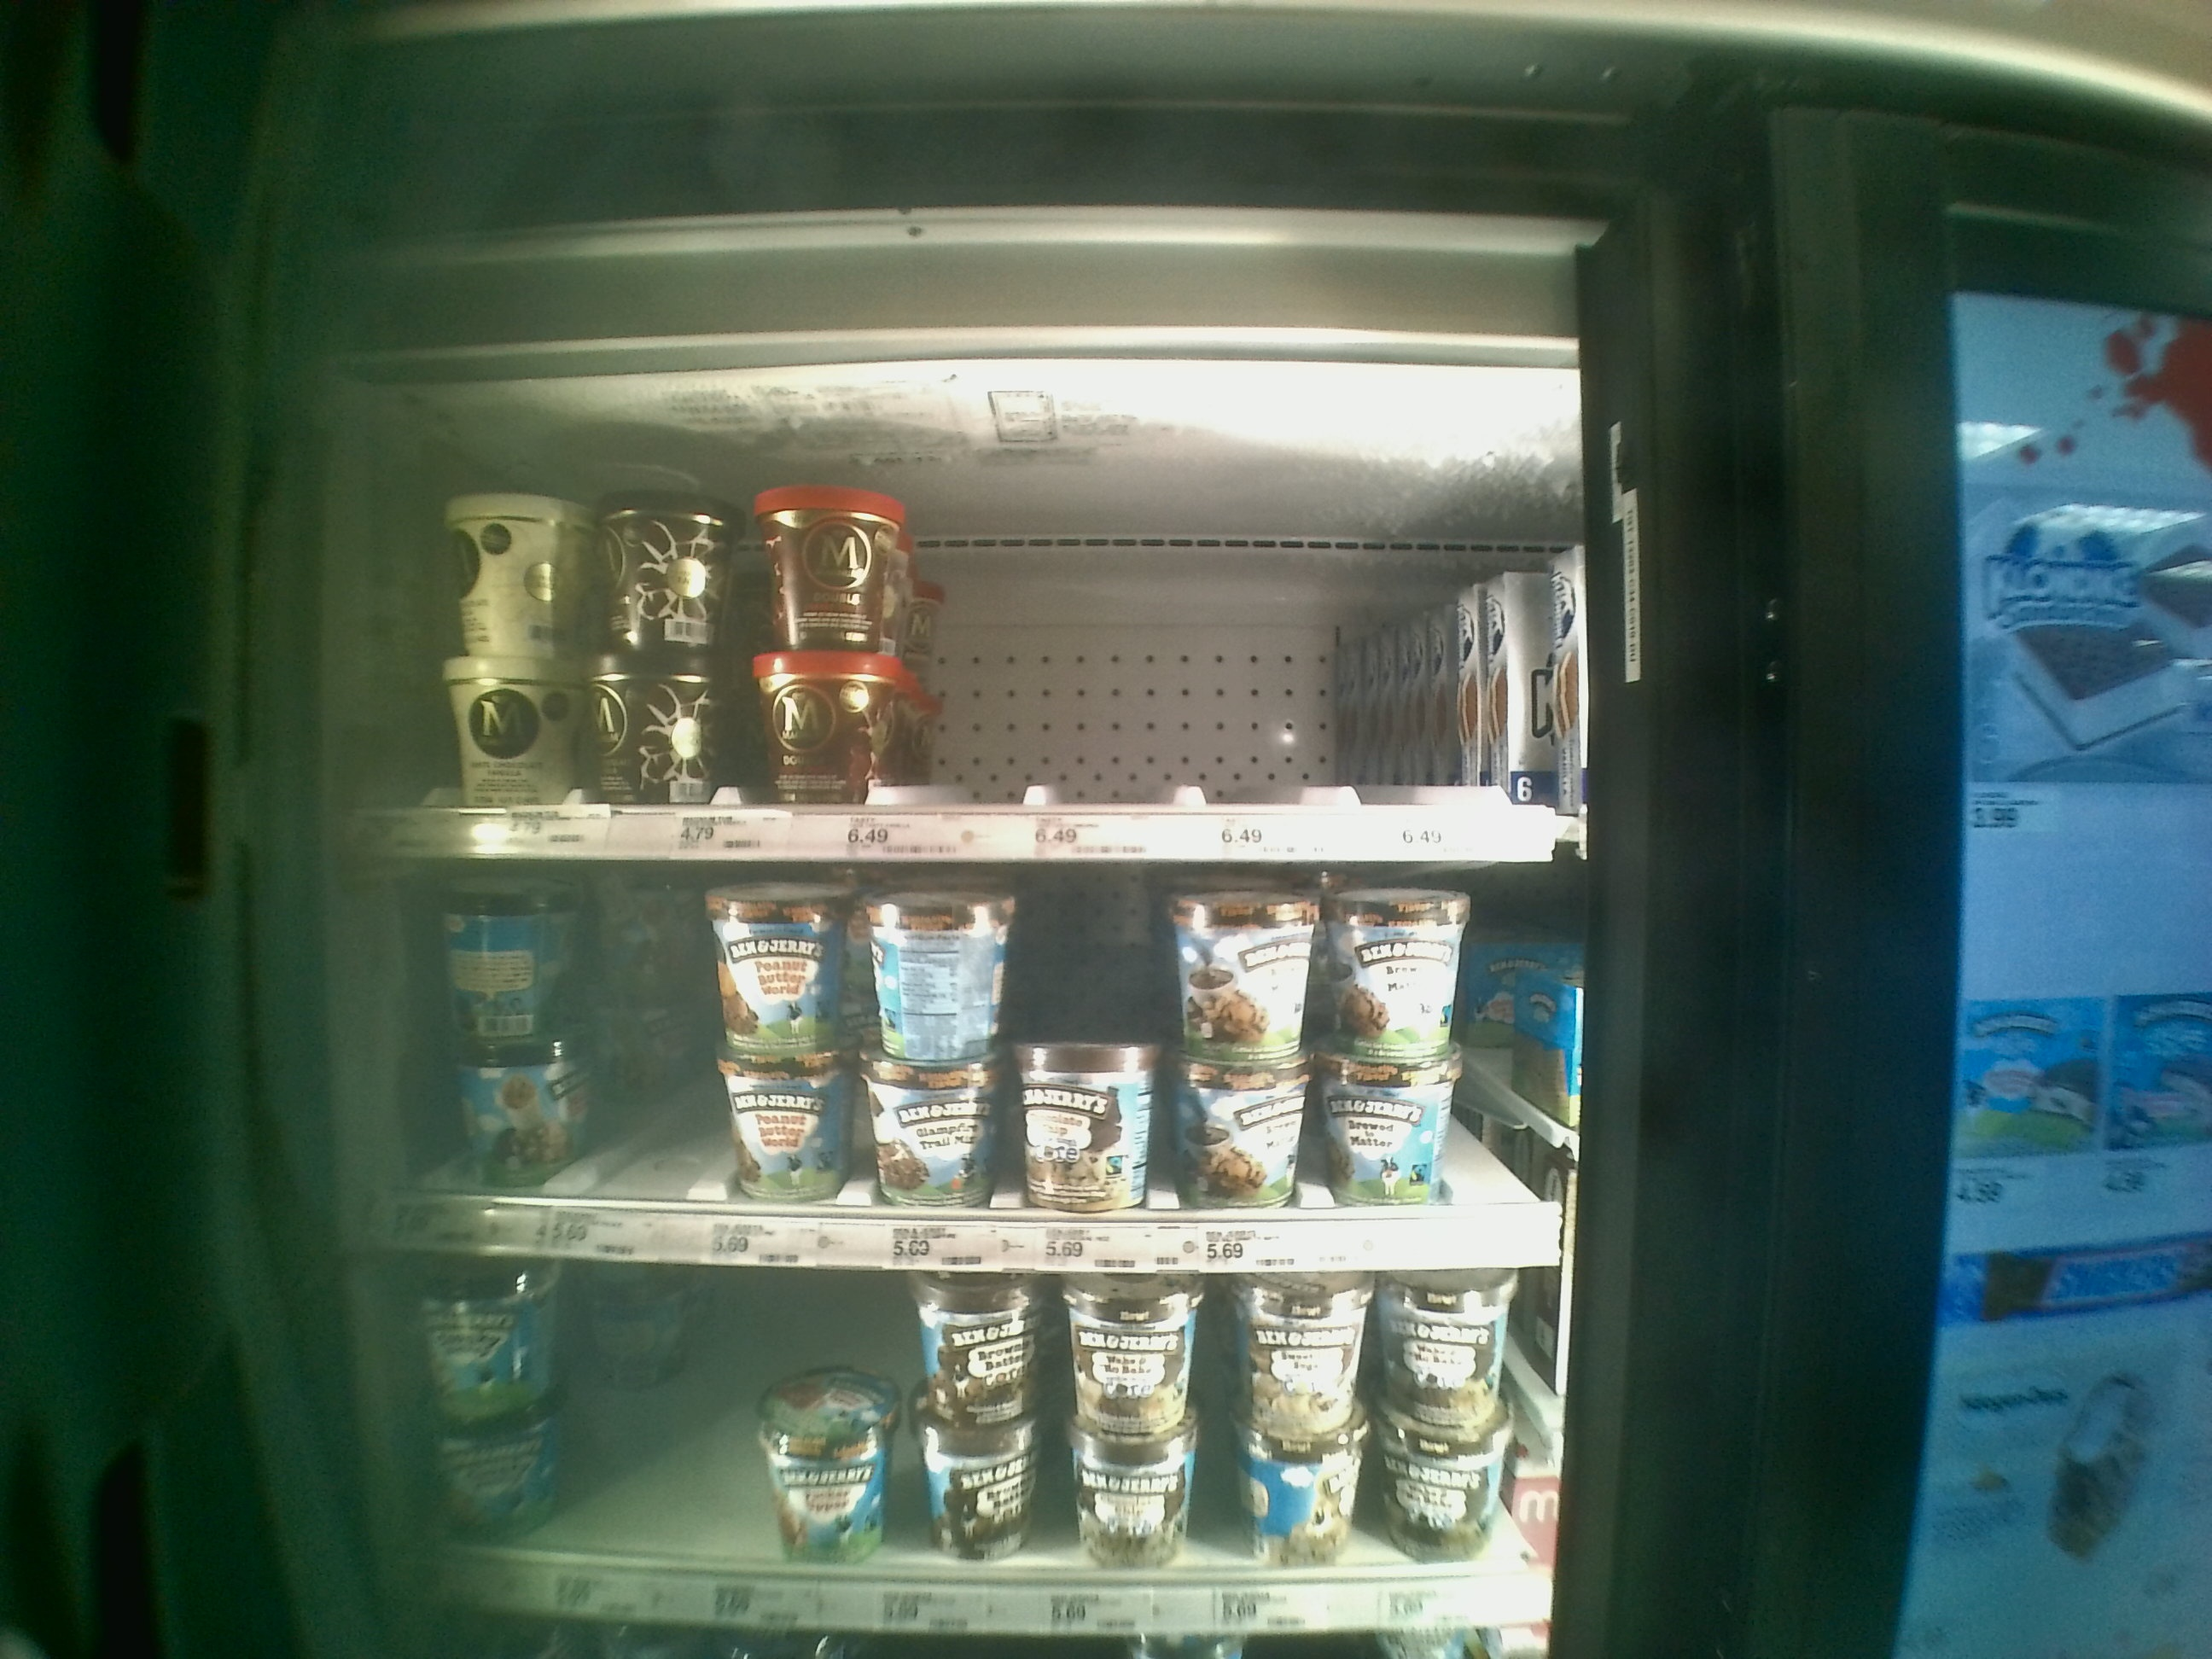ice-cream-shelf: (380, 427, 1599, 859), (374, 864, 1561, 1270), (381, 1256, 1554, 1645)
